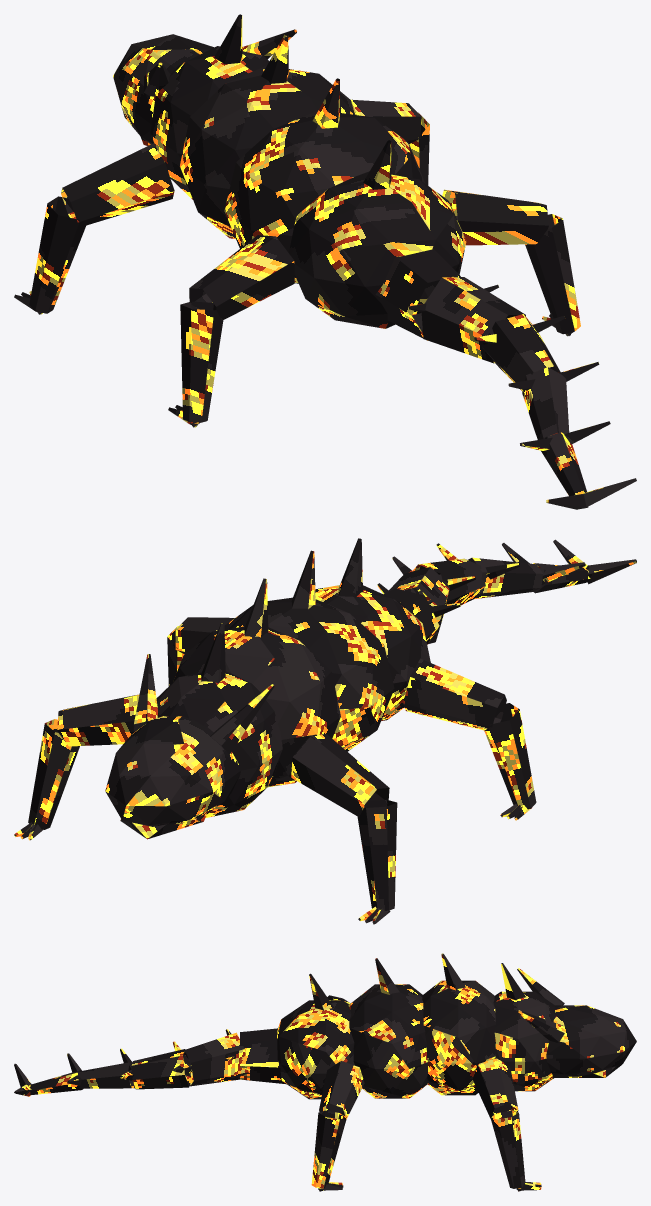
Rendered from magma_basilisk.glb.
The picture shows the model from 3 angles, top to bottom: view 1: azimuth 30°, elevation 25°; view 2: azimuth 150°, elevation 25°; view 3: azimuth 270°, elevation 25°; orthographic projection. The views are drawn at different scales.
Visible parts, largest first — view 1: MagmaBasilisk; view 2: MagmaBasilisk; view 3: MagmaBasilisk.
Boxes of the visible parts, <box> form: MagmaBasilisk: <box>14,14,636,509</box>; MagmaBasilisk: <box>14,538,636,924</box>; MagmaBasilisk: <box>14,953,636,1191</box>.
Size of the model in its own units: 2.21 by 1.49 by 4.71.
Materials: 1 (1 with a texture image).
